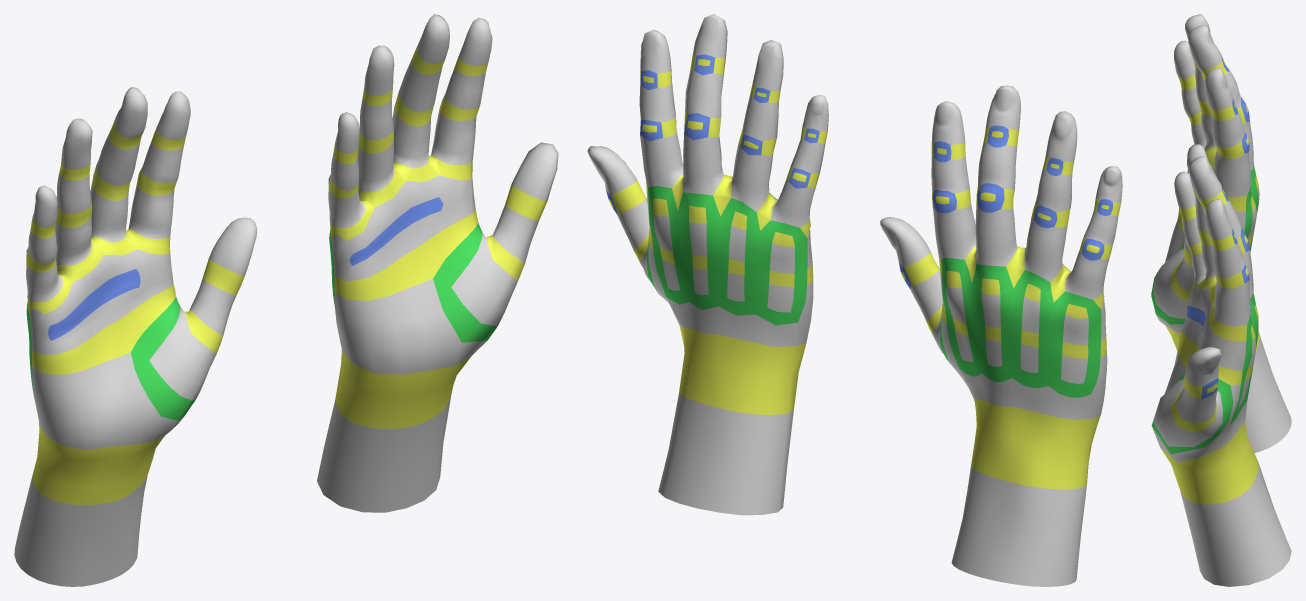
The model's file is hand.glb.
3 renders of one model, left to right at view 1: azimuth 30°, elevation 25°; view 2: azimuth 150°, elevation 25°; view 3: azimuth 270°, elevation 25°, orthographic. The views are drawn at different scales.
Parts seen in each view (by area): view 1: Object_5, Object_4, Object_3, Object_2; view 2: Object_5, Object_4, Object_3, Object_2; view 3: Object_5, Object_4, Object_3, Object_2.
Part boxes in pixels (bbox=[...]): Object_5: bbox=[14, 14, 558, 586]; Object_4: bbox=[26, 47, 547, 504]; Object_3: bbox=[26, 223, 496, 420]; Object_2: bbox=[26, 96, 444, 340]; Object_5: bbox=[587, 14, 1122, 586]; Object_4: bbox=[608, 54, 1121, 489]; Object_3: bbox=[647, 185, 1101, 397]; Object_2: bbox=[606, 54, 1112, 288]; Object_5: bbox=[1152, 14, 1291, 586]; Object_4: bbox=[1160, 58, 1259, 504]; Object_3: bbox=[1151, 164, 1258, 454]; Object_2: bbox=[1187, 56, 1249, 399].
Bounding box in the file's own units: 28.28 × 24.55 × 7.3.
